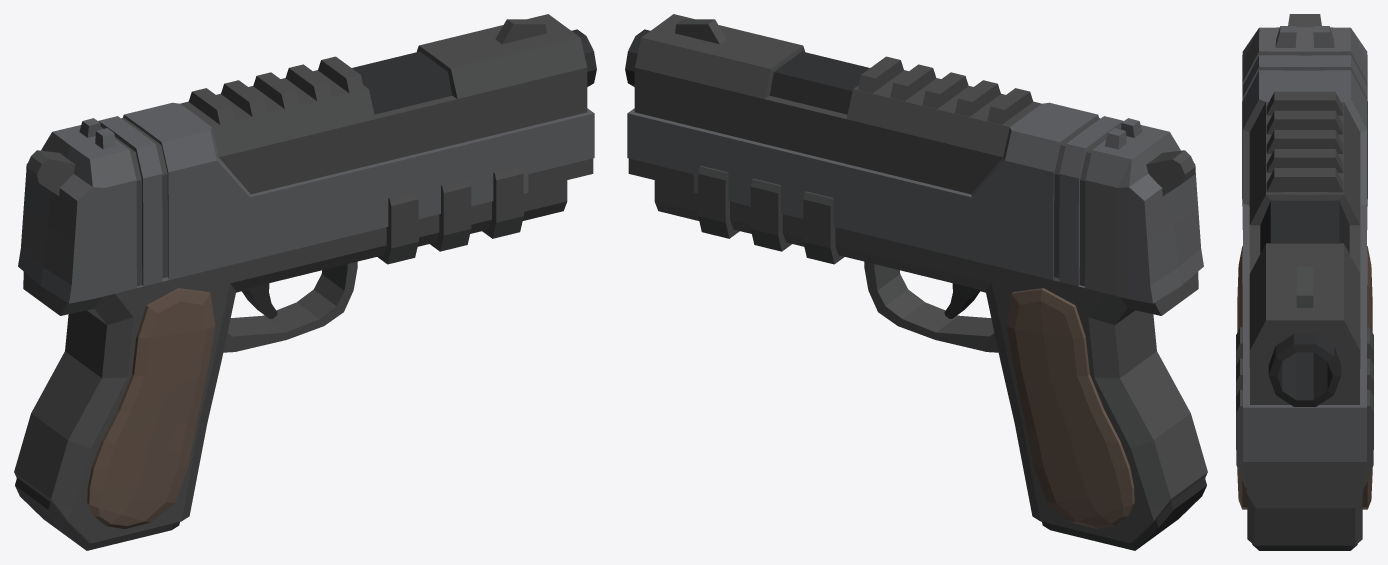
Rendered from pistol_3.glb.
3 renders of one model, left to right at view 1: azimuth 30°, elevation 25°; view 2: azimuth 150°, elevation 25°; view 3: azimuth 270°, elevation 25°, orthographic. The views are drawn at different scales.
Visible parts, largest first — view 1: Pistol_3; view 2: Pistol_3; view 3: Pistol_3.
Boxes of the visible parts, left/top/right/bottom form: Pistol_3: left=14, top=14, right=596, bottom=550; Pistol_3: left=625, top=14, right=1207, bottom=550; Pistol_3: left=1236, top=14, right=1373, bottom=550.
Bounding box in the file's own units: 1.84 × 1.29 × 0.3287.
